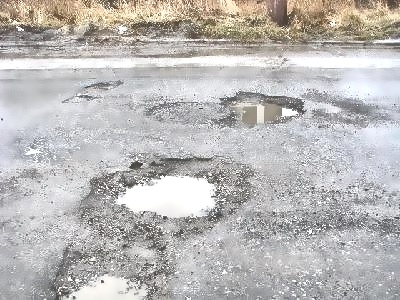pothole: (74, 152, 255, 241), (49, 244, 179, 299), (219, 89, 308, 129), (83, 79, 123, 92), (64, 93, 98, 104)
